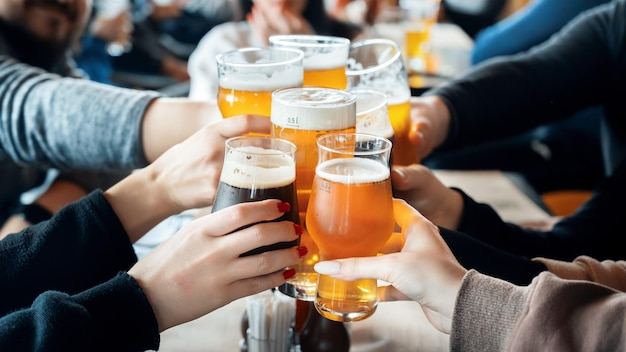alcohol: (272, 86, 358, 299), (307, 130, 397, 325), (212, 131, 300, 285), (342, 38, 423, 186), (216, 46, 303, 139), (333, 88, 401, 193), (268, 37, 349, 99)
